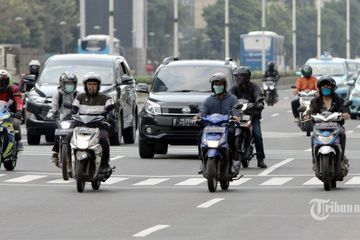plate: (173, 117, 196, 125), (315, 122, 337, 130), (74, 126, 94, 133), (204, 127, 224, 134), (55, 128, 72, 135), (302, 96, 313, 102), (240, 114, 248, 121)
